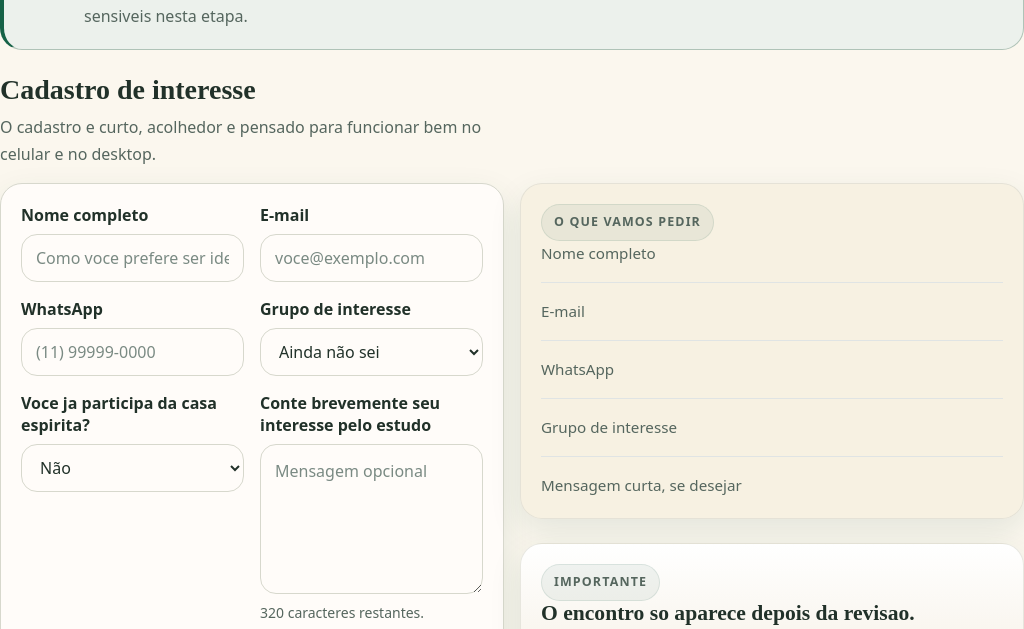
Test: paginas principais com fallback local › /inscricao envia cadastro em modo demonstrativo
The width and height of the screenshot is (1024, 629).
(page scrolled)
Type "Aluno Demo" into the field labelled "Nome completo". click: (132, 258)
box: 21,234 -> 244,282
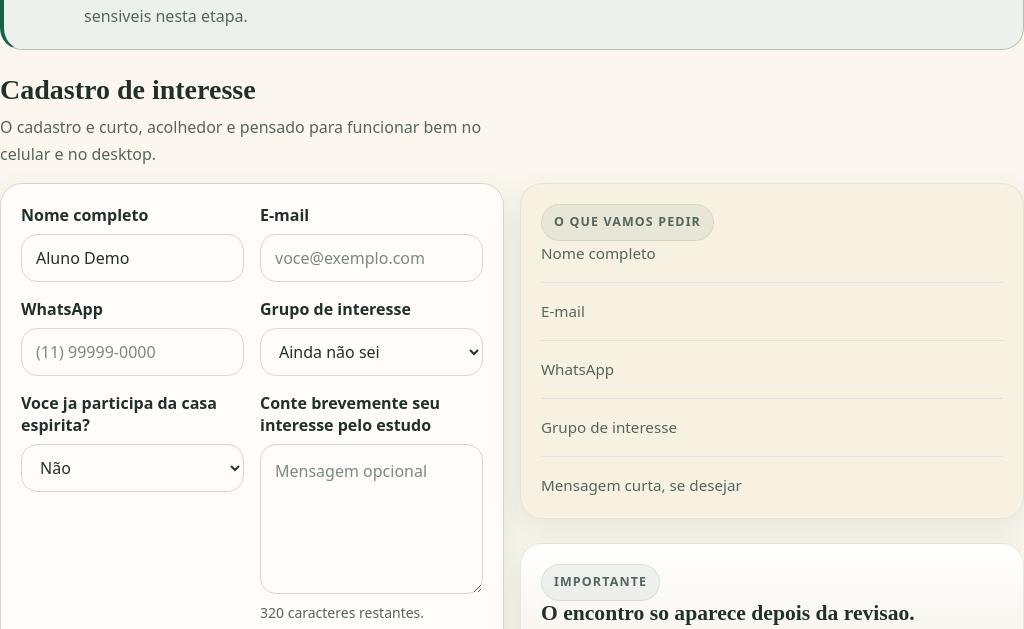
Type "aluno.demo@example.com" into the field labelled "E-mail". click: (372, 258)
box: 260,234 -> 483,282
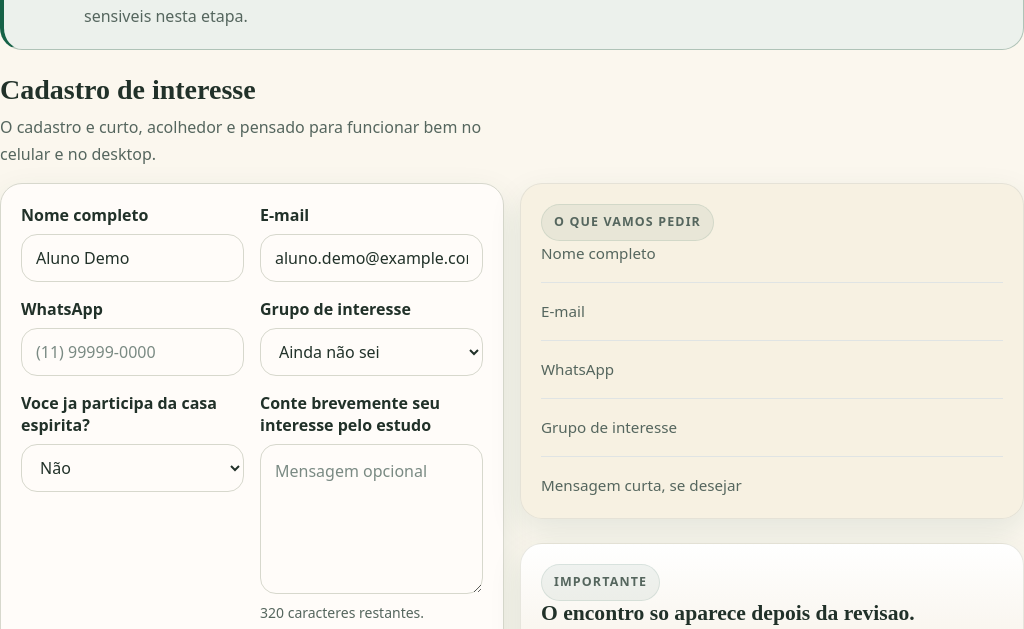
Type "+55 00 90000-0098" into the field labelled "WhatsApp". click: (132, 352)
box: 21,328 -> 244,376
(page scrolled)
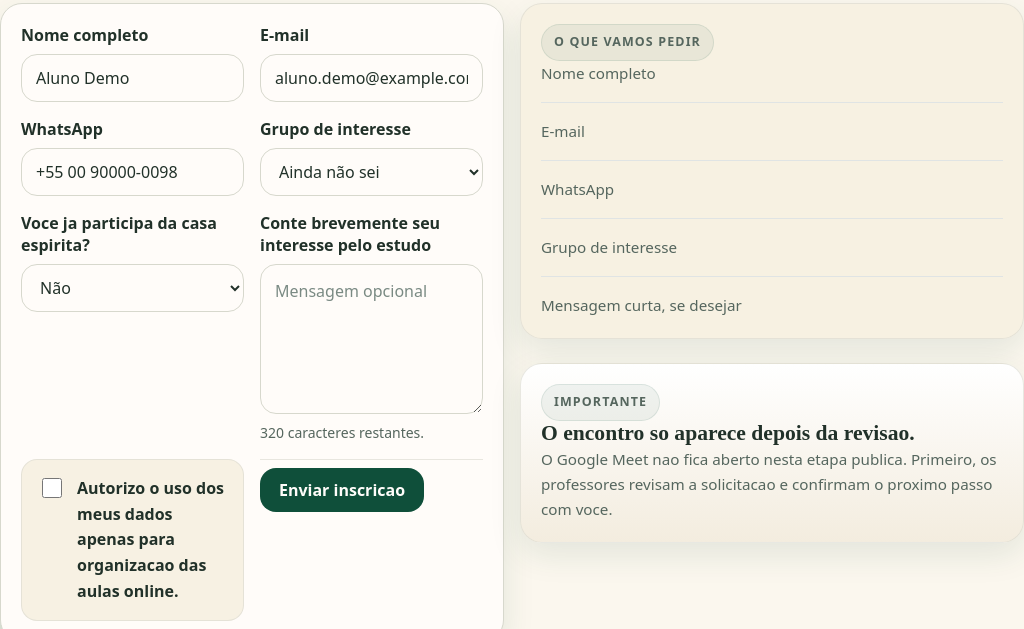
Click the checkbox labelled "Autorizo o uso dos meus dados". click: (52, 488)
box: 42,478 -> 62,498
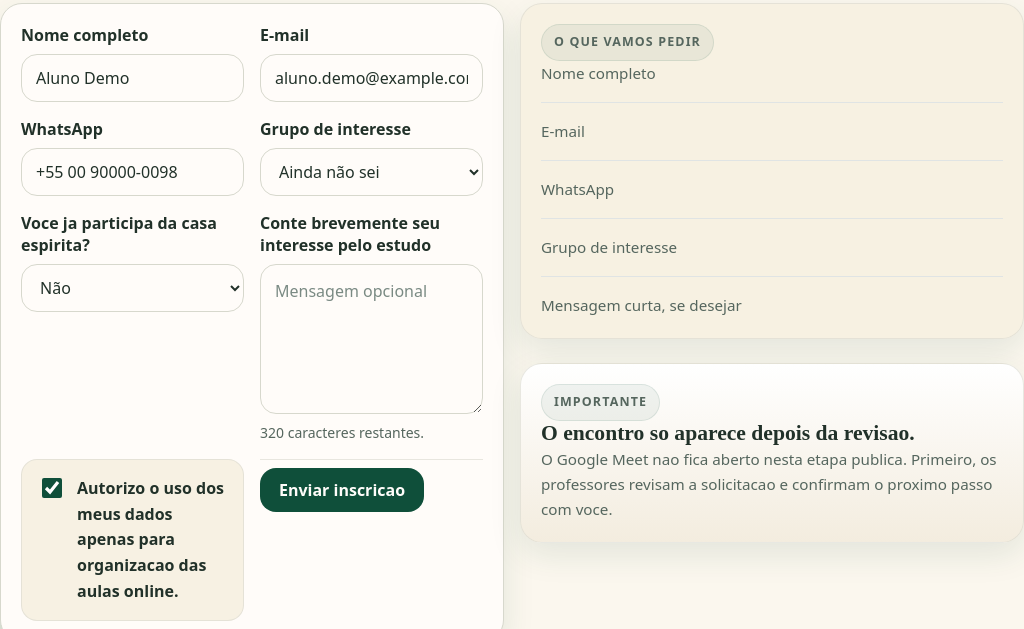
Click the button "Enviar inscricao". click: (342, 490)
box: 260,468 -> 424,512
(page scrolled)
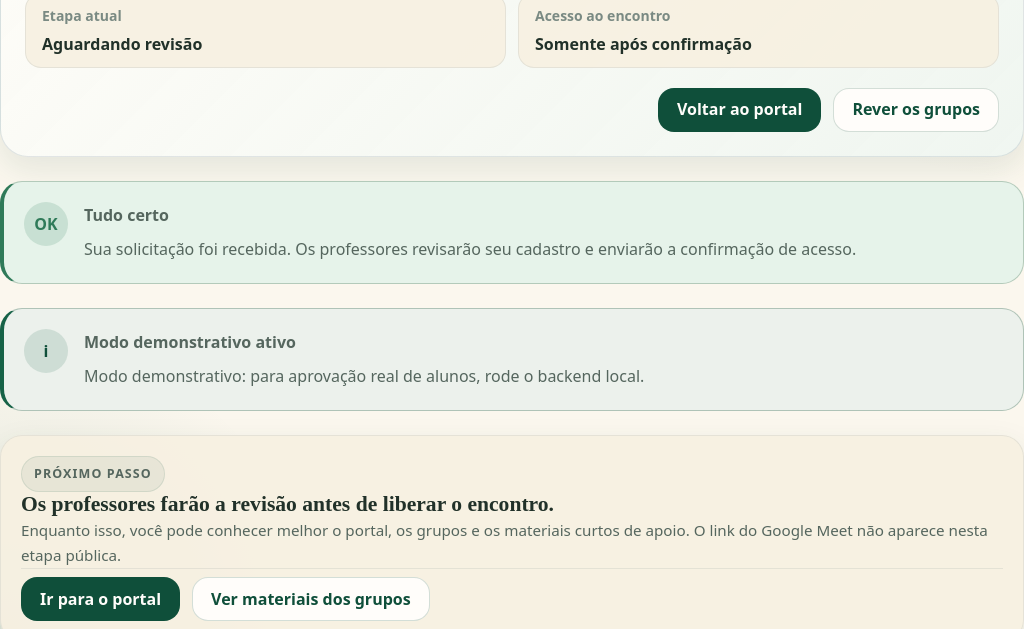
Expected: the text "Modo demonstrativo: para aprovação real de alunos, rode o backend local." is shown, 84,365 -> 644,387
